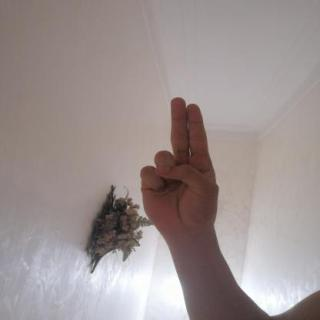TA: (123, 87, 228, 238)
